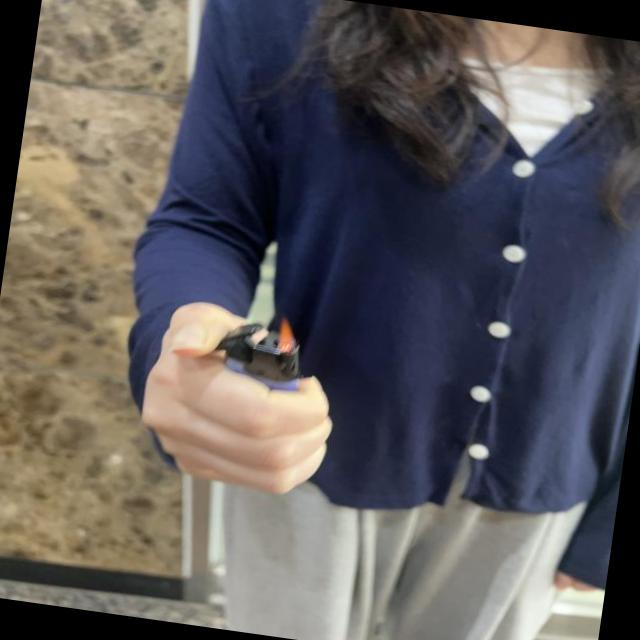Fire: (275, 315, 305, 350)
